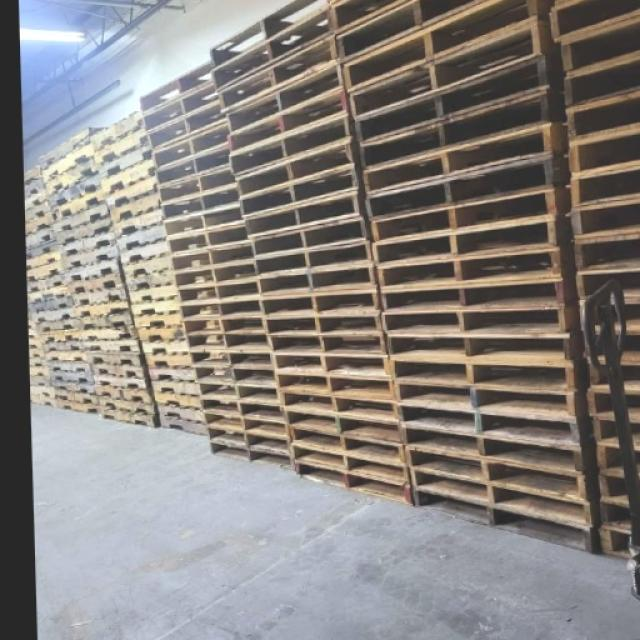non-igps: (342, 15, 550, 126), (350, 50, 558, 149), (354, 81, 561, 177), (339, 0, 544, 96), (358, 118, 567, 201), (359, 149, 571, 226), (408, 481, 600, 558), (398, 437, 593, 508), (367, 181, 566, 250), (403, 464, 597, 534), (392, 417, 590, 483), (205, 3, 344, 94), (209, 29, 344, 119), (368, 214, 570, 274), (390, 401, 590, 460), (384, 353, 585, 410), (372, 243, 572, 299), (331, 0, 495, 68), (221, 55, 353, 138), (388, 375, 581, 430), (378, 301, 580, 352), (382, 327, 583, 378), (223, 80, 356, 157), (377, 270, 572, 322), (224, 108, 359, 181), (205, 0, 335, 72), (230, 133, 363, 202), (234, 158, 367, 222), (239, 183, 367, 243), (291, 456, 420, 513), (286, 440, 415, 493), (246, 210, 374, 263), (556, 6, 639, 86), (278, 423, 411, 471), (560, 80, 639, 160), (556, 46, 639, 122), (252, 258, 383, 303), (271, 385, 404, 428), (276, 406, 407, 449), (250, 236, 378, 280), (254, 285, 388, 325), (558, 190, 639, 256), (540, 0, 640, 53), (560, 156, 639, 218), (269, 369, 400, 406), (149, 117, 235, 173), (143, 99, 230, 154), (562, 122, 639, 184), (140, 79, 225, 135), (138, 59, 220, 116), (150, 140, 237, 190), (565, 224, 639, 282), (266, 351, 396, 384), (158, 180, 247, 224), (258, 311, 388, 341), (36, 121, 112, 172), (154, 162, 242, 206), (160, 198, 249, 241), (324, 0, 418, 40), (570, 260, 639, 313), (163, 217, 254, 257), (573, 289, 639, 344), (262, 332, 392, 358), (574, 321, 640, 372), (168, 238, 258, 275), (200, 409, 294, 444), (201, 423, 295, 458), (39, 135, 100, 188), (48, 176, 112, 226), (205, 442, 298, 476), (85, 106, 148, 155), (172, 256, 260, 291), (90, 121, 154, 169), (96, 154, 164, 199), (44, 164, 106, 212), (95, 138, 160, 183), (101, 168, 166, 213), (196, 393, 290, 424), (576, 351, 640, 396), (42, 153, 102, 200), (175, 276, 263, 308), (57, 233, 125, 274), (49, 194, 112, 238), (56, 221, 125, 261), (176, 293, 266, 322), (109, 202, 170, 244), (106, 187, 170, 227), (52, 210, 119, 248), (190, 381, 283, 406), (62, 252, 125, 288), (111, 219, 172, 256), (68, 277, 133, 311), (63, 266, 132, 298), (581, 386, 640, 423), (68, 303, 138, 334), (586, 413, 640, 453), (117, 232, 177, 268), (74, 316, 143, 347), (178, 313, 268, 336), (182, 330, 271, 353), (187, 365, 279, 387), (123, 263, 181, 297), (97, 402, 164, 431), (589, 444, 640, 481), (590, 499, 640, 536), (120, 249, 176, 282), (94, 391, 160, 419), (80, 331, 146, 358), (592, 471, 640, 508), (125, 278, 186, 307), (72, 294, 136, 321), (90, 381, 158, 406), (593, 526, 640, 562), (129, 291, 187, 320), (154, 398, 210, 426), (155, 411, 213, 438), (130, 305, 189, 331), (133, 318, 192, 344), (186, 352, 275, 369), (88, 359, 151, 383), (139, 331, 197, 357), (84, 346, 146, 370), (151, 389, 211, 412), (147, 361, 201, 386), (28, 290, 78, 316), (26, 280, 76, 306), (150, 376, 207, 398), (144, 347, 198, 370), (89, 373, 151, 393), (25, 256, 68, 284), (26, 268, 68, 296), (24, 246, 67, 273), (23, 220, 58, 253), (23, 206, 58, 239), (24, 236, 66, 262), (46, 367, 98, 387), (53, 386, 102, 407), (32, 314, 86, 333), (31, 305, 78, 326), (50, 378, 99, 398), (45, 357, 94, 377), (55, 396, 101, 417), (39, 337, 88, 356), (22, 197, 54, 226), (37, 325, 83, 345), (22, 182, 50, 214), (43, 348, 90, 365), (22, 174, 48, 202), (21, 162, 45, 188), (29, 391, 60, 410), (29, 383, 57, 401), (27, 374, 54, 389), (26, 364, 53, 379), (26, 345, 50, 360), (25, 334, 46, 351), (28, 354, 51, 368), (26, 322, 42, 340)
